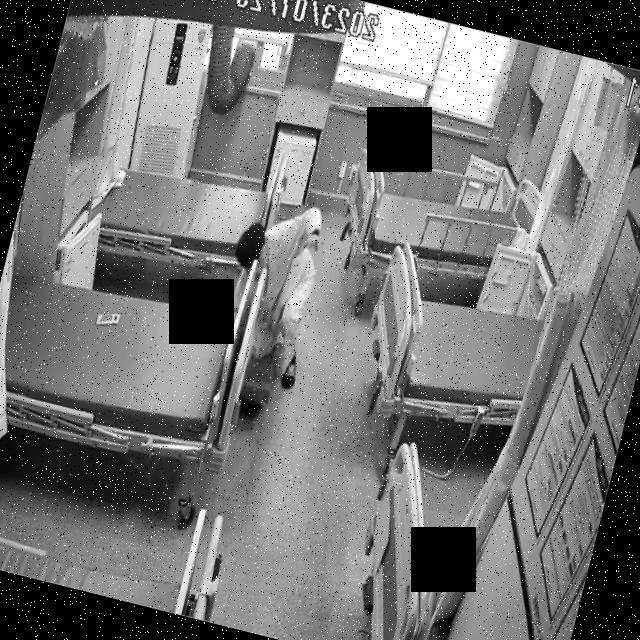bed: (0, 252, 243, 477), (345, 237, 555, 450), (335, 139, 544, 301), (81, 128, 286, 288)
fall: (203, 187, 341, 392)
patient: (204, 187, 340, 392)
